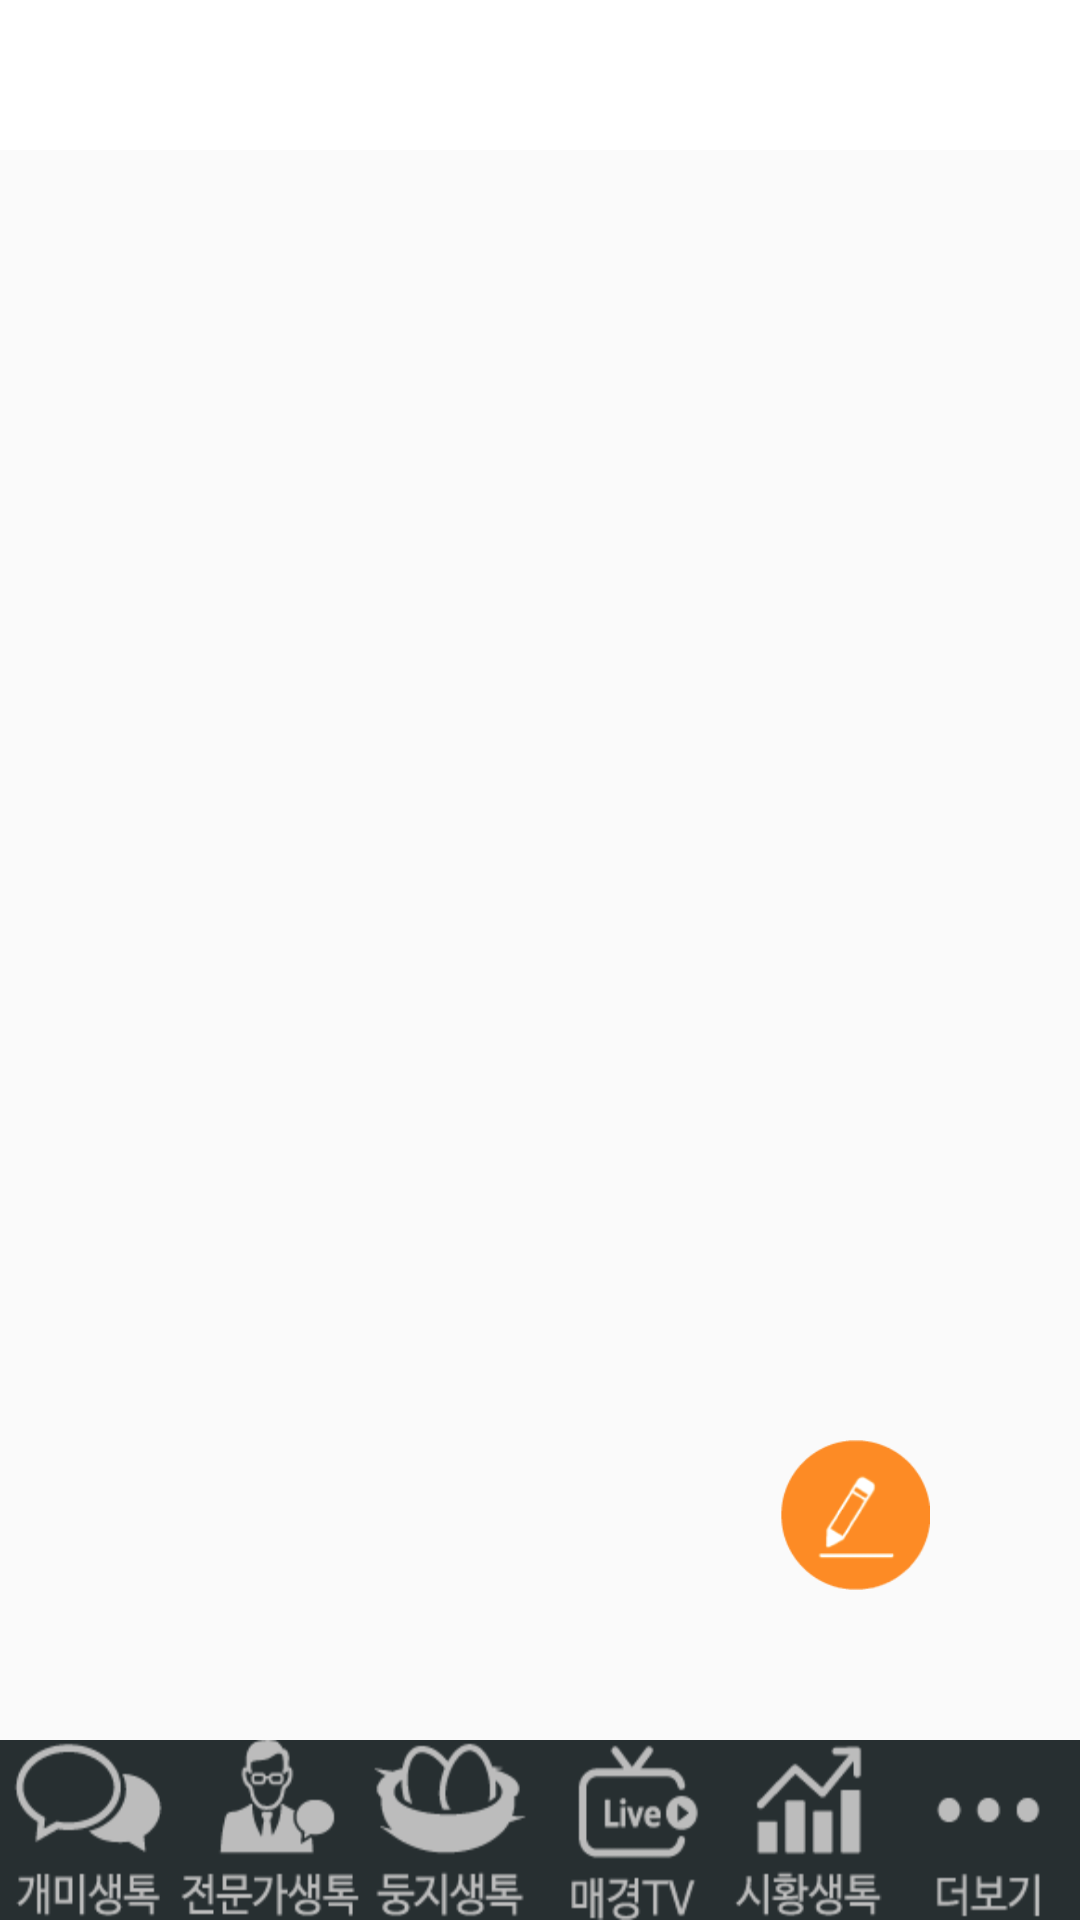

Point at icon controls on the screen. Image size 1080×1920, points as [x,y].
write: [855,1515]
